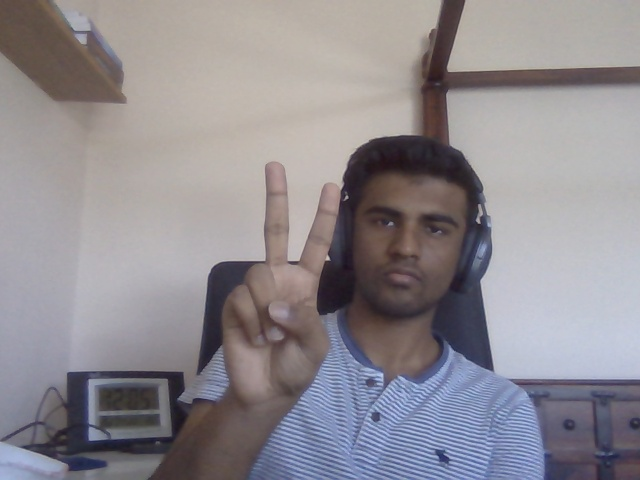Peace: (222, 161, 341, 399)
